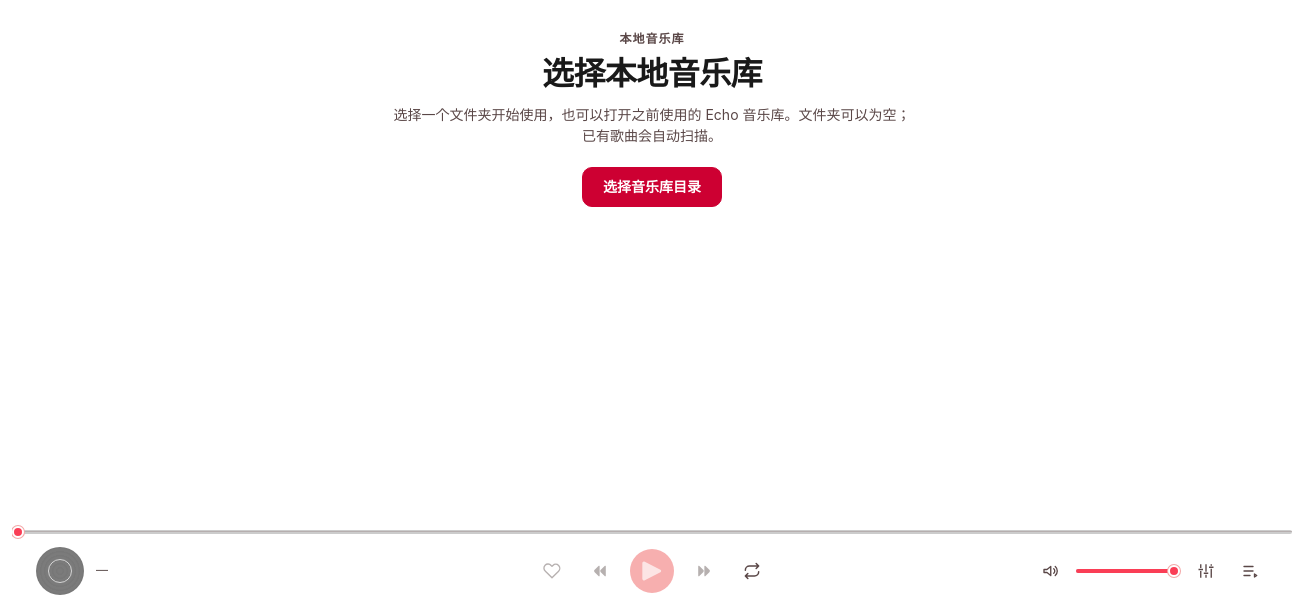
it: Library activation without a status event › allows retry if the post-activation status query fails
The width and height of the screenshot is (1304, 609).
What coordinates should you click on to do the following:
click the button "选择音乐库目录"
I would click on:
 (652, 186)
Its box is x1=582 y1=166 x2=722 y2=206.
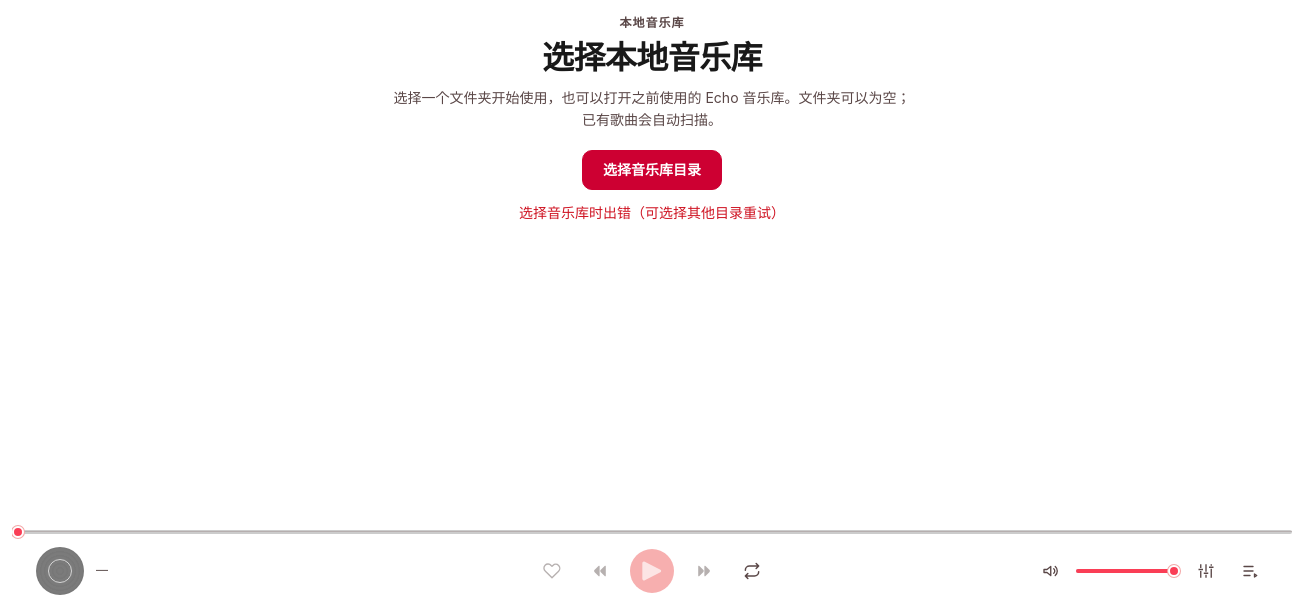
Expected: the button "选择音乐库目录" is enabled, x1=582 y1=150 x2=722 y2=190
Now the message "选择音乐库时出错（可选择其他目录重试）" is shown, box x1=519 y1=202 x2=785 y2=223
